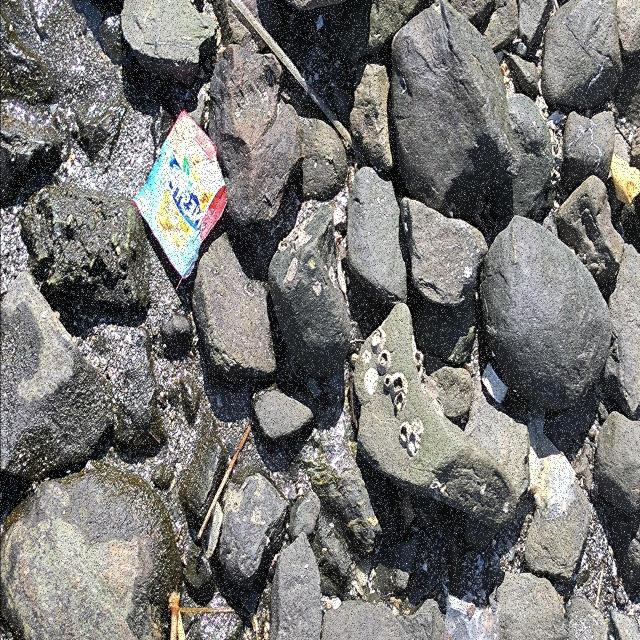plastic_waste: (132, 109, 229, 281)
